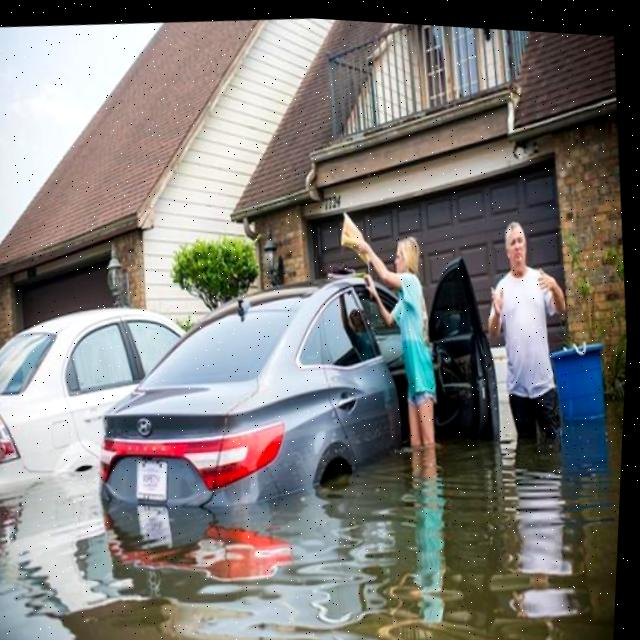civilian: (470, 209, 596, 482), (344, 210, 462, 465)
